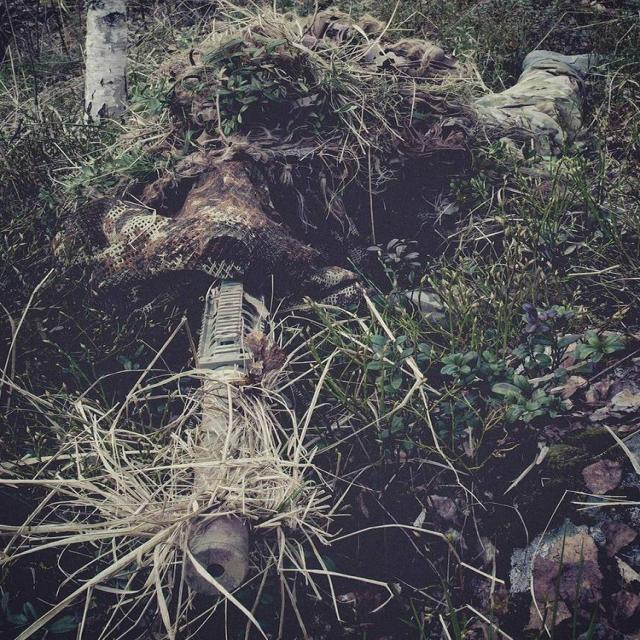Camouflage: (56, 8, 609, 598)
